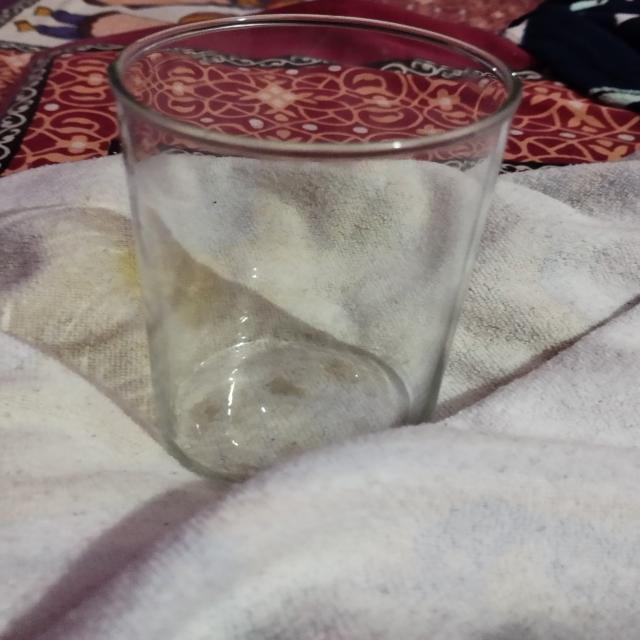Glass: (100, 6, 525, 483)
